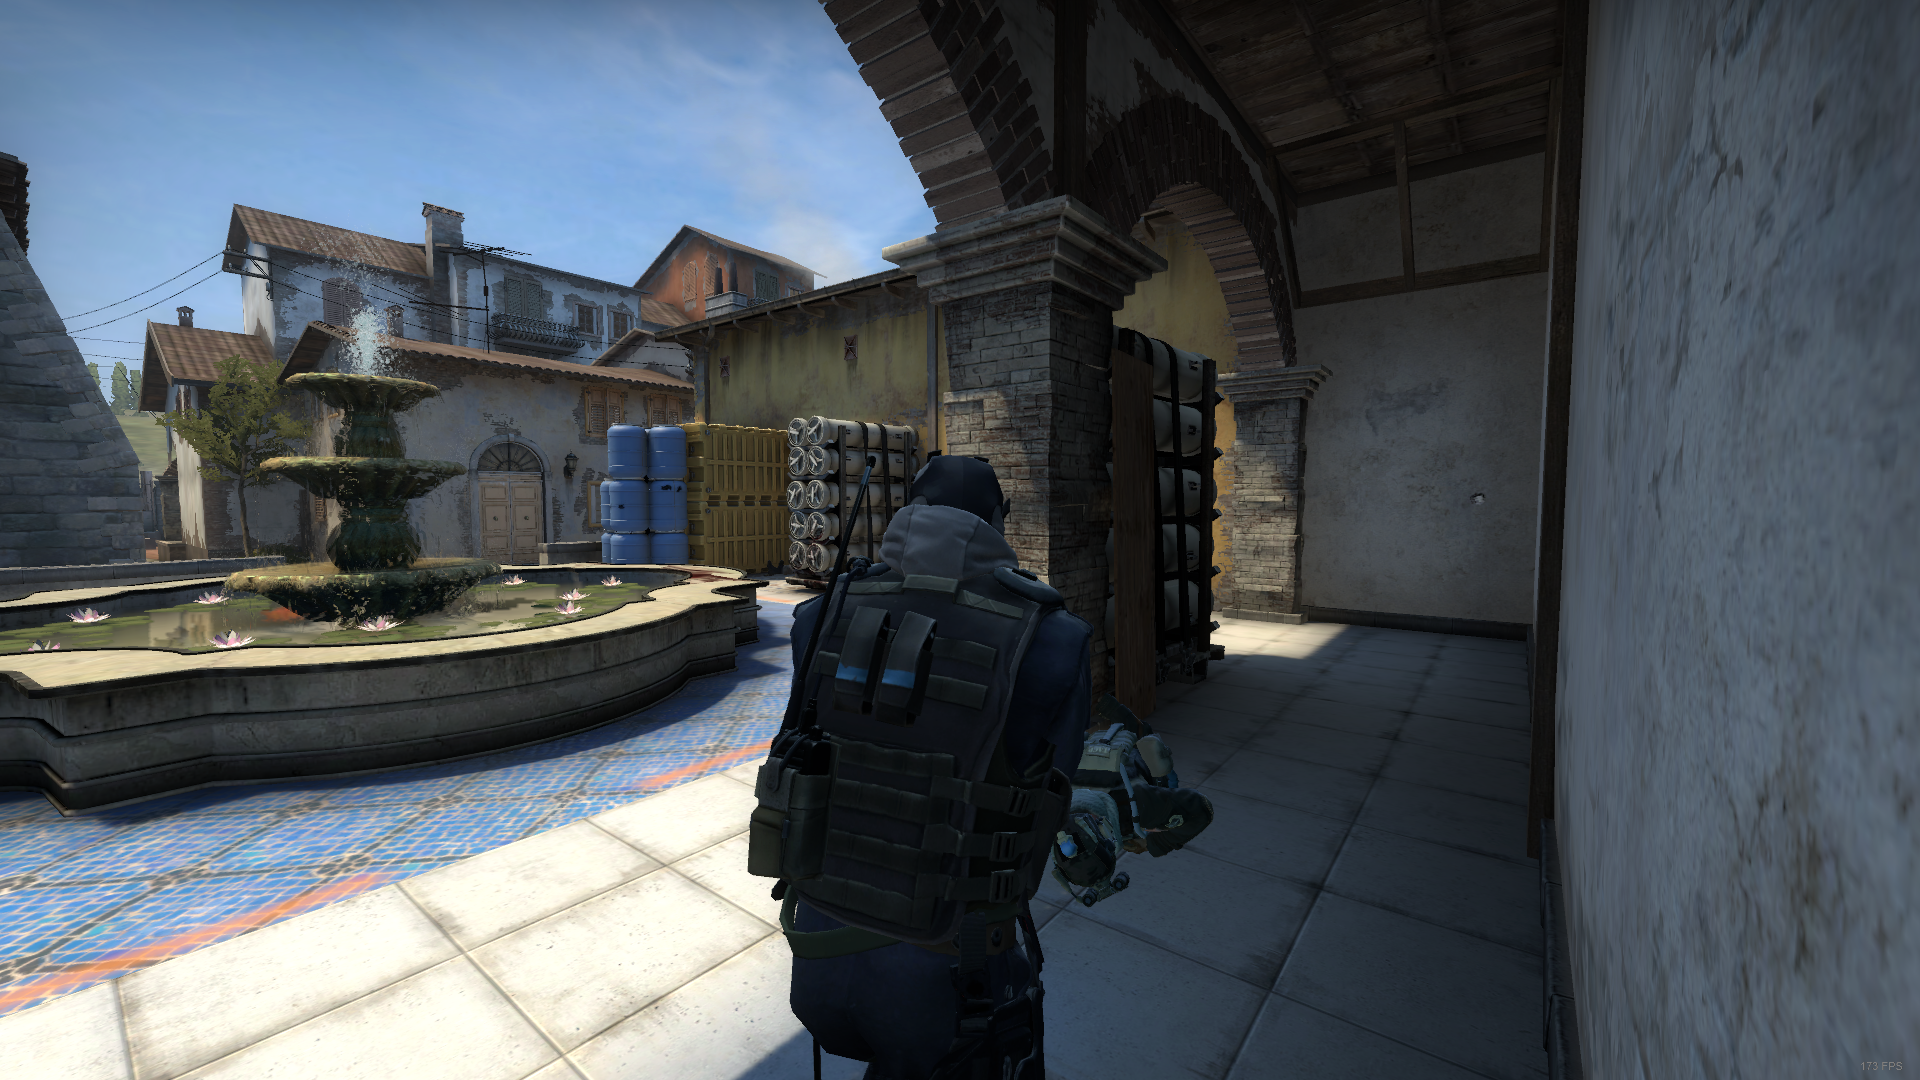ct: (745, 418, 1153, 1080)
